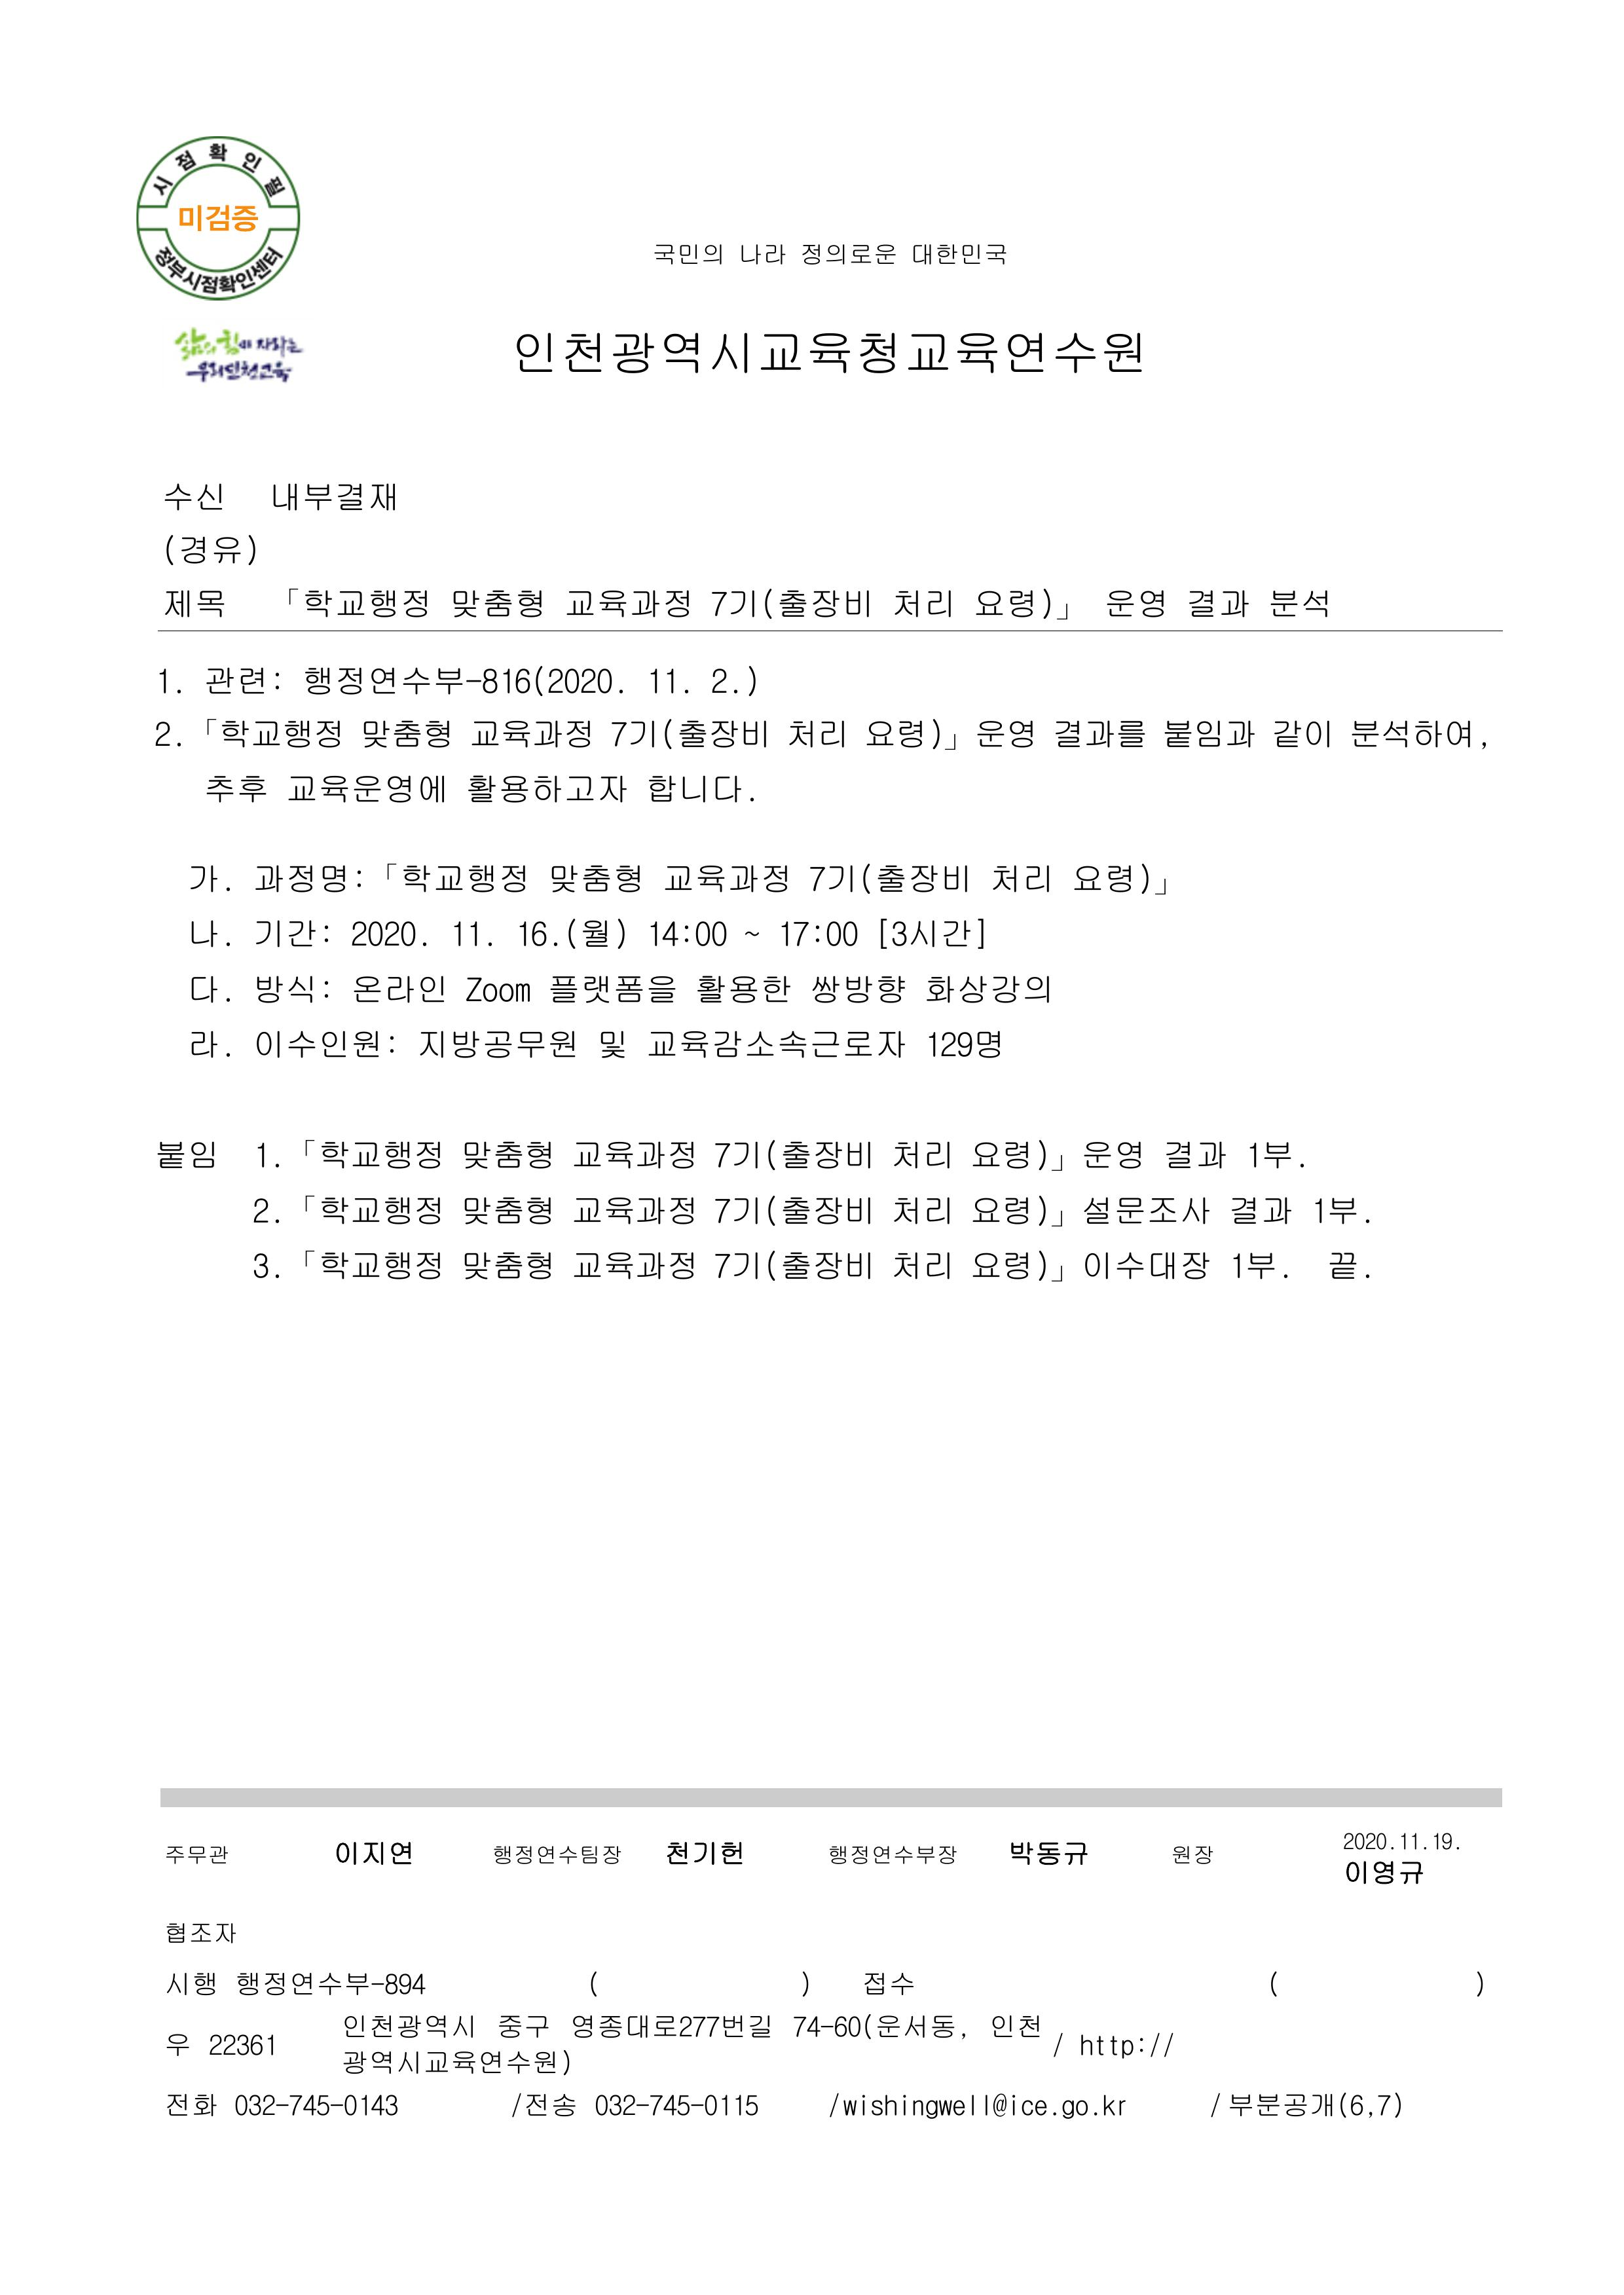t: (513, 327, 1144, 380), (301, 662, 624, 699), (645, 1026, 907, 1061), (339, 2045, 559, 2081), (566, 2007, 773, 2044), (1206, 2088, 1406, 2123), (707, 583, 872, 624), (606, 713, 772, 754), (710, 1190, 875, 1230), (789, 2007, 965, 2044), (283, 583, 431, 624), (297, 1190, 445, 1230), (462, 771, 627, 807), (807, 861, 972, 896), (710, 1137, 875, 1172), (710, 1248, 875, 1283), (286, 771, 448, 807), (417, 1026, 576, 1061), (1079, 1190, 1213, 1230), (237, 1972, 427, 2000), (1348, 713, 1480, 754), (297, 1244, 441, 1281), (214, 713, 344, 754), (269, 476, 397, 517), (251, 1026, 397, 1061), (469, 713, 596, 754), (339, 2012, 480, 2047), (562, 583, 691, 620), (545, 972, 678, 1007), (1079, 1248, 1213, 1283), (569, 1193, 696, 1230), (397, 861, 527, 896), (921, 972, 1051, 1007), (663, 861, 789, 896), (315, 1137, 441, 1172), (569, 1137, 696, 1172), (569, 1248, 696, 1283), (875, 914, 990, 951), (968, 1190, 1069, 1230), (251, 861, 366, 896), (828, 2095, 968, 2123), (972, 582, 1074, 620), (807, 968, 907, 1007), (968, 1137, 1069, 1176), (176, 329, 304, 358), (359, 713, 452, 754), (459, 1190, 552, 1230), (162, 531, 258, 569), (645, 771, 749, 807), (691, 972, 793, 1007), (448, 583, 545, 620), (1158, 717, 1255, 754), (1072, 861, 1172, 896), (968, 1248, 1069, 1283), (863, 717, 958, 754), (1051, 717, 1144, 754), (352, 972, 448, 1007), (459, 1248, 555, 1283), (490, 1843, 624, 1868), (548, 861, 642, 896), (459, 1137, 552, 1172), (773, 914, 861, 951), (828, 1843, 958, 1868), (645, 914, 731, 951), (176, 200, 258, 237), (204, 662, 286, 699), (251, 914, 334, 951), (348, 914, 431, 951), (796, 239, 896, 269), (251, 972, 334, 1007), (921, 1026, 1004, 1061), (910, 239, 1007, 269), (1225, 1190, 1295, 1230), (286, 2095, 401, 2119), (1079, 2033, 1176, 2061), (559, 914, 631, 951), (334, 1836, 417, 1868), (663, 1836, 745, 1868), (1004, 1836, 1086, 1868), (1341, 1857, 1424, 1889), (462, 972, 534, 1007), (1183, 583, 1251, 620), (162, 583, 227, 620), (1265, 583, 1330, 620), (1269, 717, 1334, 754), (1158, 1137, 1225, 1172), (889, 583, 953, 620), (889, 1190, 953, 1227), (1079, 1137, 1144, 1172), (1104, 583, 1165, 620), (186, 362, 294, 383), (155, 1137, 218, 1172), (889, 1137, 953, 1172), (889, 1248, 953, 1283), (975, 717, 1035, 754), (162, 480, 227, 513), (990, 861, 1051, 896), (1308, 1193, 1366, 1230), (204, 2030, 279, 2058), (506, 2089, 576, 2119), (204, 771, 269, 803), (1225, 1248, 1283, 1283), (707, 662, 761, 699), (494, 2007, 548, 2044), (786, 717, 845, 749), (700, 2089, 763, 2119), (645, 662, 696, 699), (1244, 1137, 1297, 1172), (986, 2012, 1044, 2044), (165, 1922, 239, 1947), (1060, 2096, 1128, 2123), (979, 2095, 1051, 2119), (448, 917, 499, 951), (165, 1968, 218, 2000), (513, 917, 562, 951), (165, 1843, 232, 1868), (591, 2089, 645, 2119), (186, 861, 232, 896), (228, 2089, 279, 2119), (186, 914, 227, 951), (186, 1026, 227, 1061), (165, 2095, 221, 2119), (1323, 1248, 1362, 1283), (649, 2095, 703, 2119), (186, 972, 227, 1003), (738, 244, 789, 269), (863, 1972, 914, 1996), (652, 244, 700, 269), (596, 1026, 627, 1061), (1172, 1843, 1216, 1868), (1341, 1833, 1390, 1854), (255, 1251, 279, 1283), (1397, 1833, 1431, 1854), (156, 720, 179, 749), (255, 1144, 279, 1169), (255, 1198, 276, 1227), (156, 671, 179, 696), (703, 244, 728, 265), (1431, 1833, 1455, 1854)
